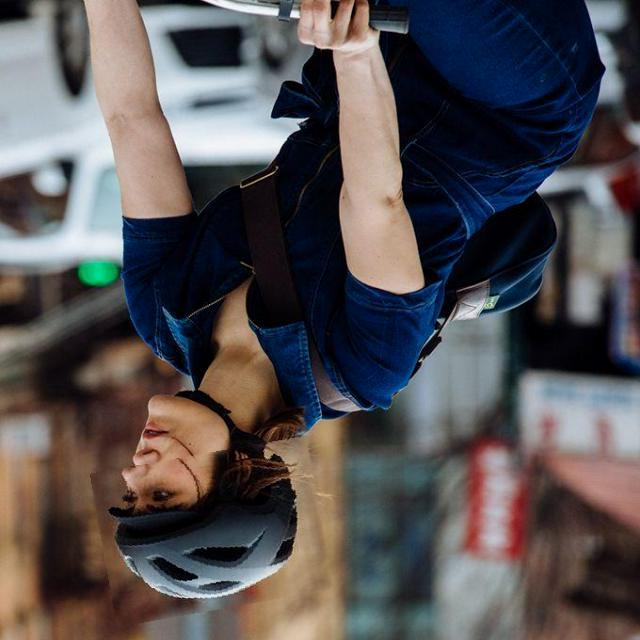helmet: (95, 444, 327, 618)
